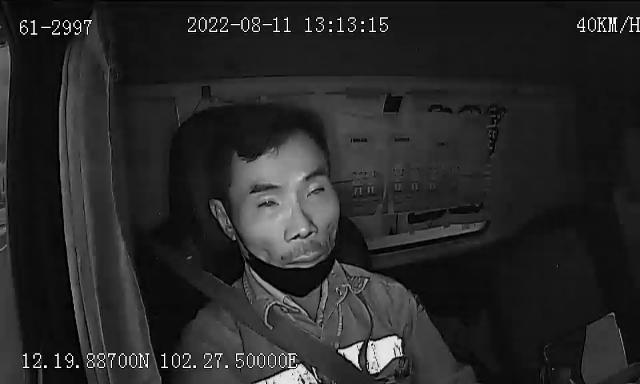SafeDriving: (418, 95, 460, 122), (300, 175, 332, 206), (251, 189, 286, 213)
Seatbelt: (179, 254, 377, 384)
